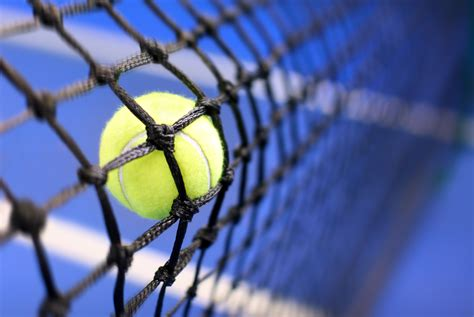tennis_ball: (98, 91, 226, 219)
